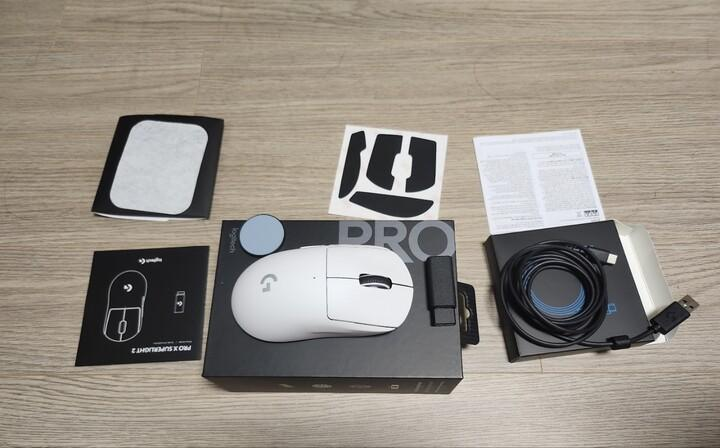mouse: (230, 243, 414, 343)
